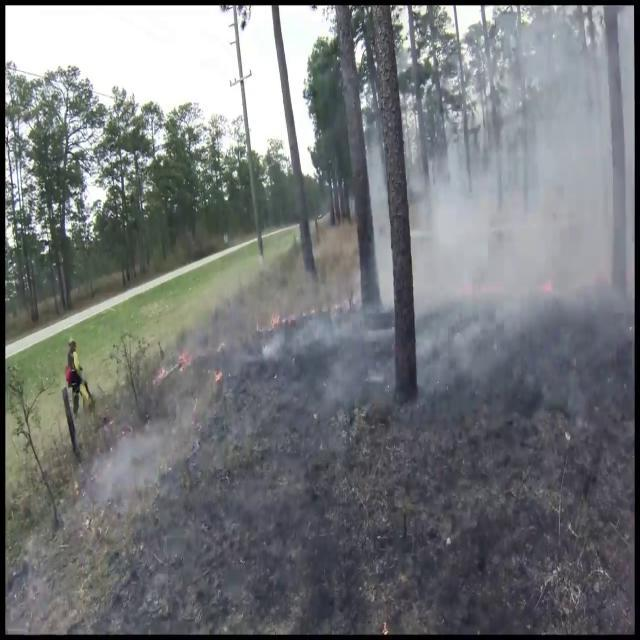Smoke: (386, 24, 634, 437)
